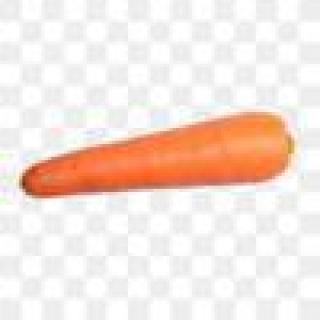Wortel: (4, 107, 299, 219)
